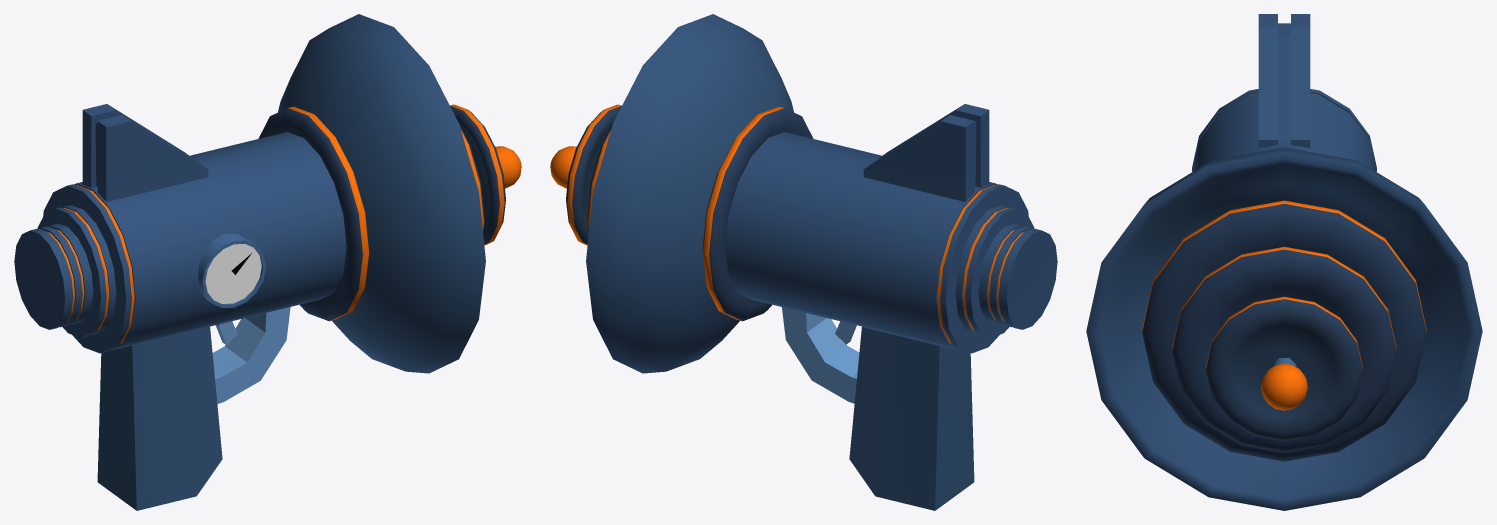
The model's file is rayGun.glb.
3 views of the same model, side by side, from view 1: azimuth 30°, elevation 25°; view 2: azimuth 150°, elevation 25°; view 3: azimuth 270°, elevation 25° (orthographic). The views are drawn at different scales.
Visible parts, largest first — view 1: Circle; view 2: Circle; view 3: Circle.
Boxes of the visible parts, <box> form: Circle: <box>14,14,521,510</box>; Circle: <box>550,14,1057,510</box>; Circle: <box>1086,14,1482,510</box>.
Size of the model in its own units: 0.4273 by 0.3426 by 0.2842.
1 material, 1 textured.
